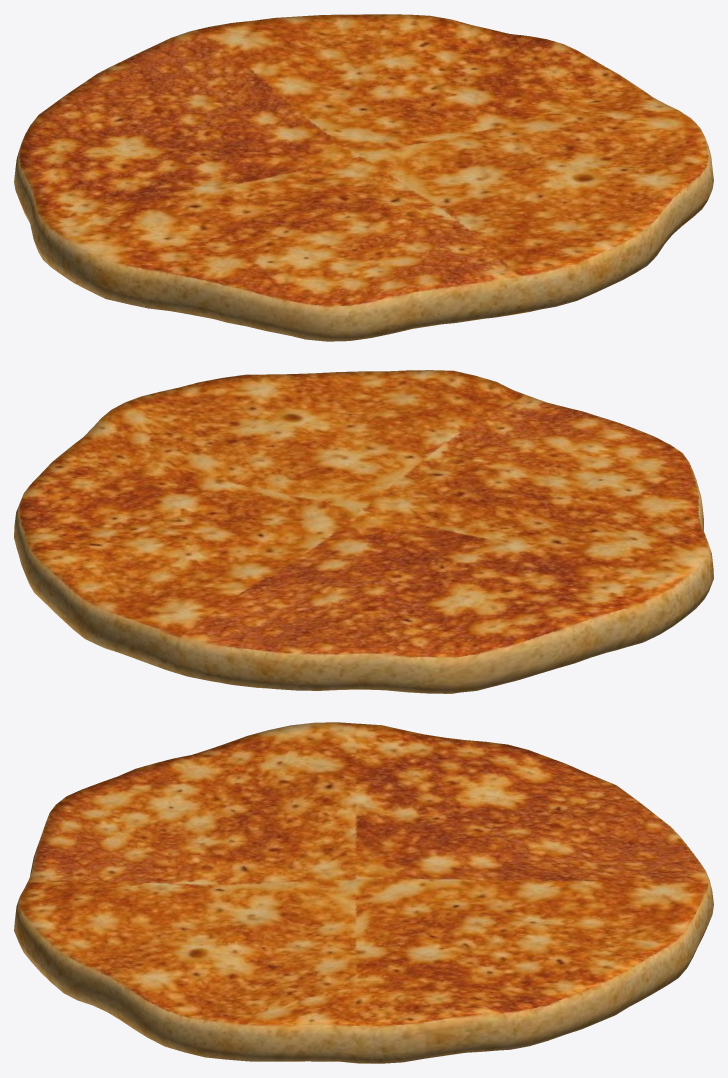
File: savory-pancake-3.glb
3 views of the same model, one above another, from view 1: azimuth 30°, elevation 25°; view 2: azimuth 150°, elevation 25°; view 3: azimuth 270°, elevation 25° (orthographic). The views are drawn at different scales.
Parts seen in each view (by area): view 1: savory-pancake; view 2: savory-pancake; view 3: savory-pancake.
Boxes of the visible parts, box(x1,y1,x2,y2) form: savory-pancake: box(14, 14, 713, 341); savory-pancake: box(14, 370, 713, 693); savory-pancake: box(14, 722, 713, 1063).
Size of the model in its own units: 2.4 by 0.1906 by 2.34.
1 material, 1 textured.
